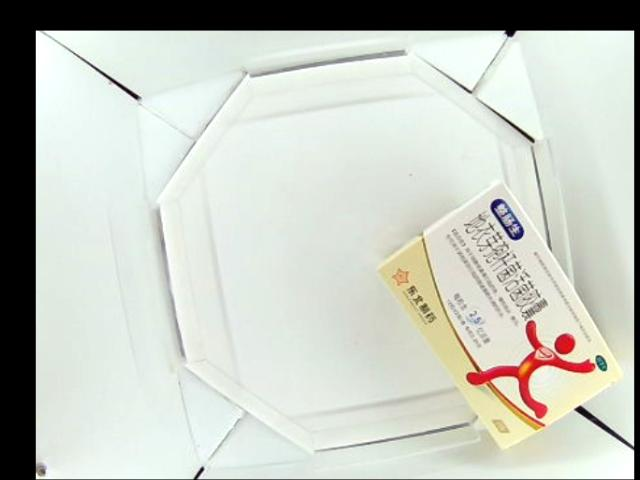Medicine: (375, 181, 623, 449)
